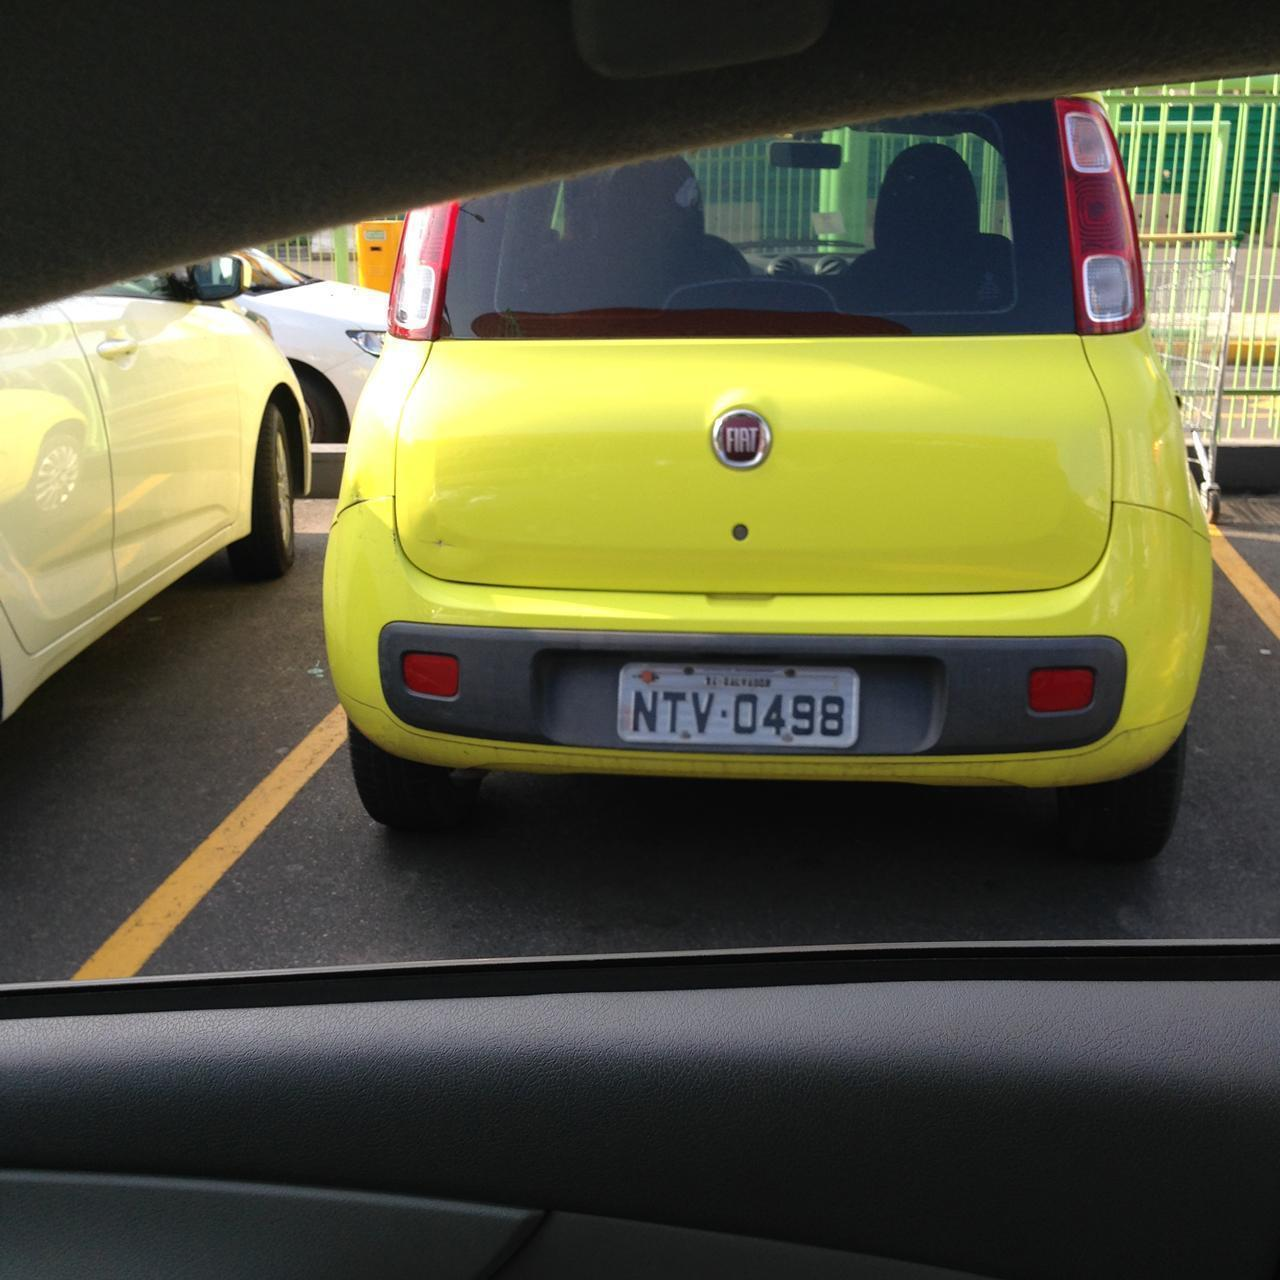placa de veiculo: (603, 650, 876, 770)
